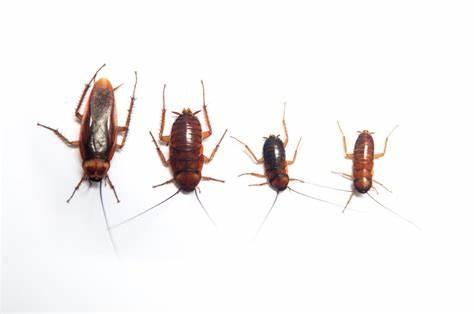cockroach: (75, 74, 120, 192), (163, 108, 206, 196), (345, 125, 380, 202), (257, 132, 294, 198)
